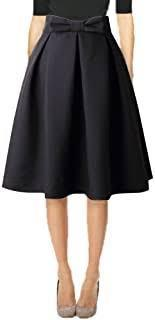skirt: (0, 7, 155, 214)
